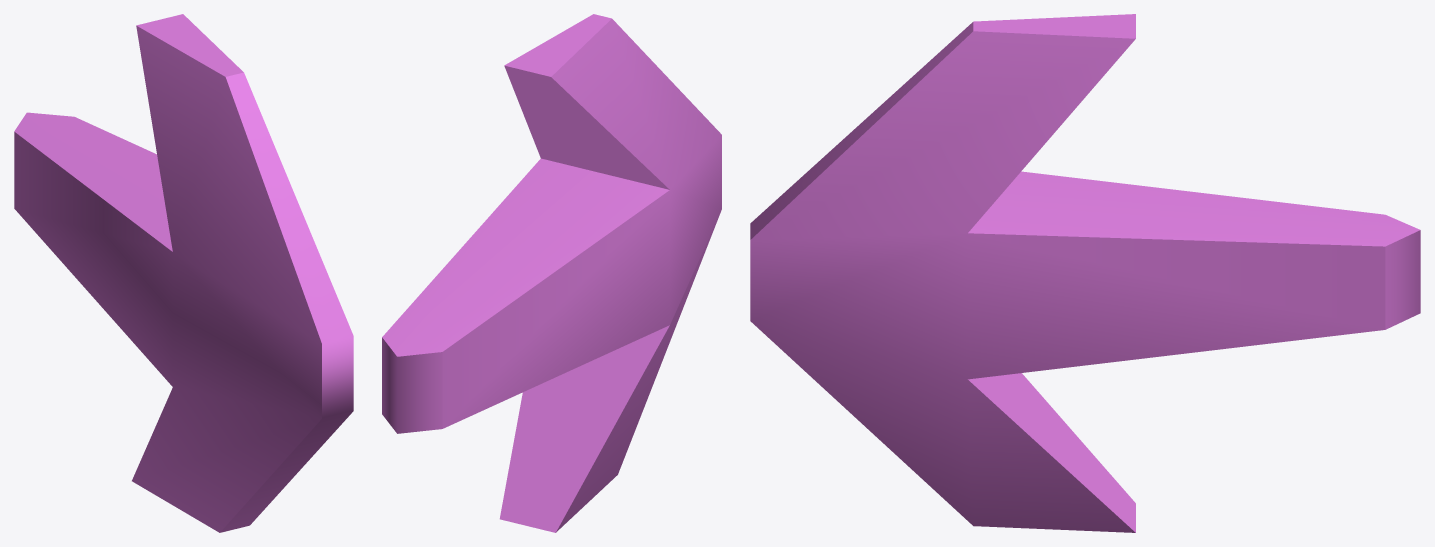
The model's file is arrow (1).fbx.
3 renders of one model, left to right at view 1: azimuth 30°, elevation 25°; view 2: azimuth 150°, elevation 25°; view 3: azimuth 270°, elevation 25°, orthographic. The views are drawn at different scales.
Visible parts, largest first — view 1: pCube2; view 2: pCube2; view 3: pCube2.
Boxes of the visible parts, box(x1,y1,x2,y2) form: pCube2: box(14, 14, 353, 532); pCube2: box(382, 14, 721, 532); pCube2: box(750, 14, 1420, 532).
Size of the model in its own units: 1 by 3.36 by 4.16.
